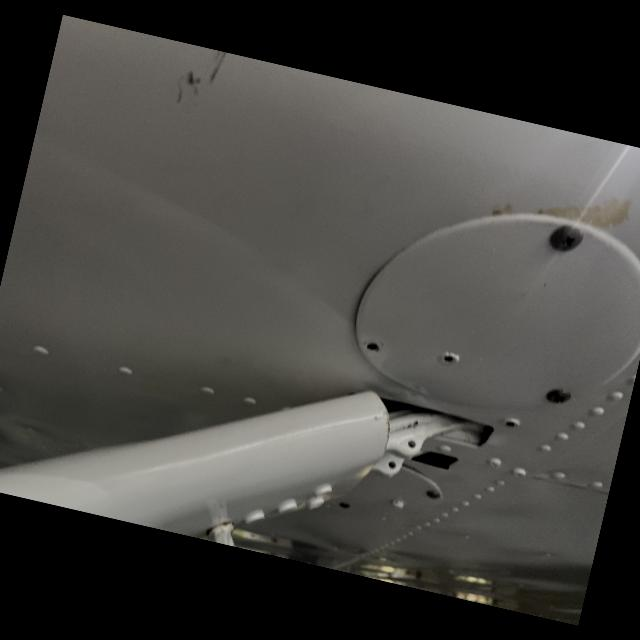Missing Fastener: (354, 332, 396, 361)
